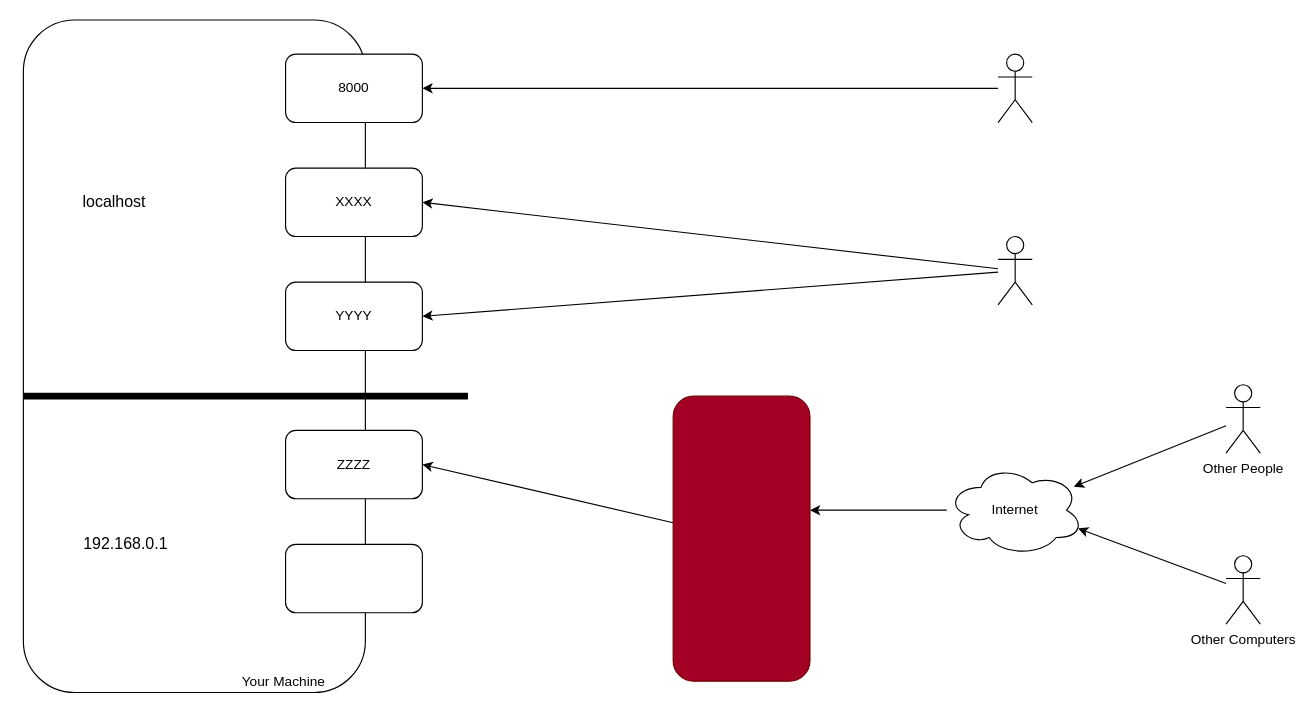
This 1314x713 diagram has some shape labels left out. Here are the shapes that lost their labels. From the top down, the centre of each, then its label:
(x=1014, y=88): You
(x=1014, y=270): Your Computer
(x=741, y=538): Firewall
(x=353, y=578): VVVV
